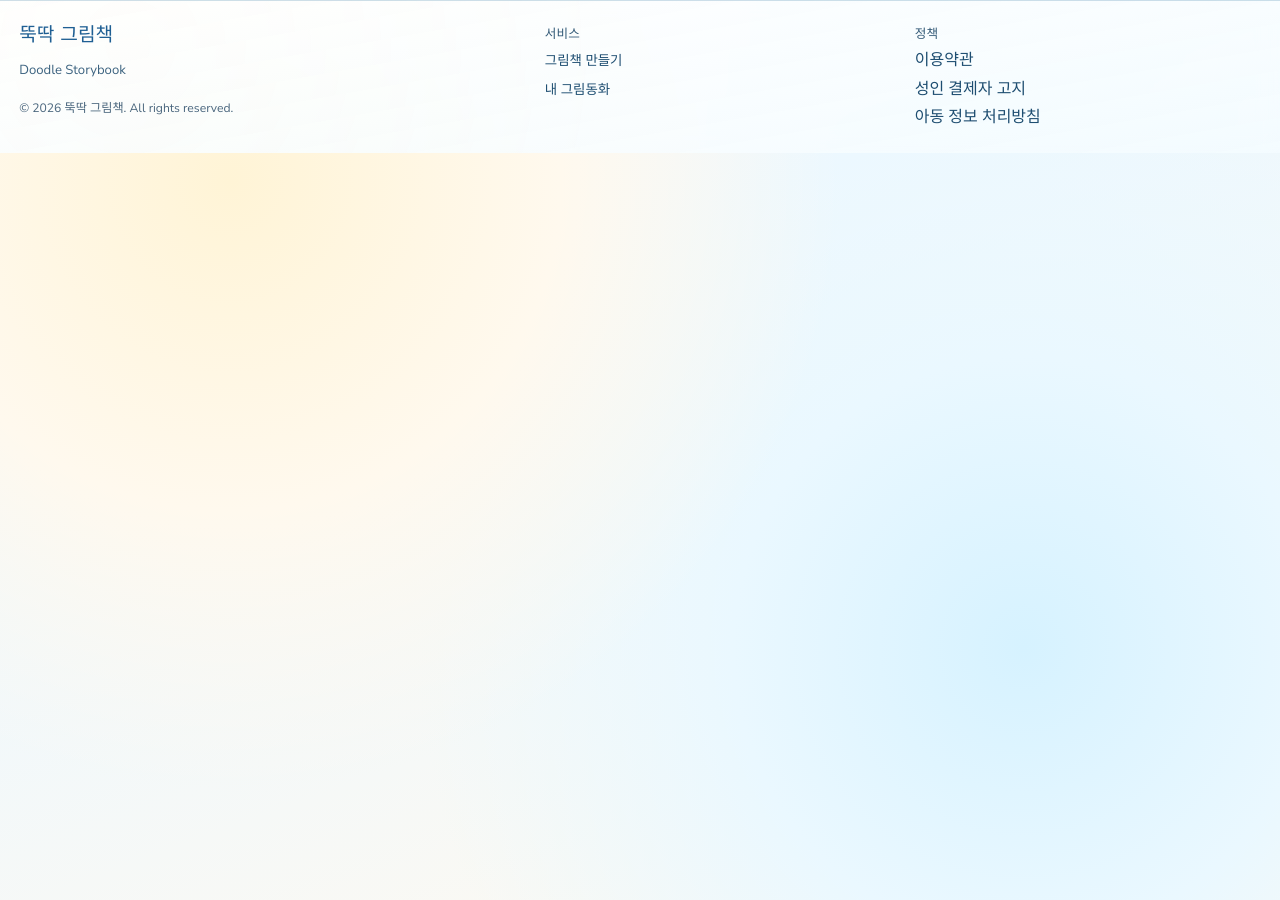
Test: AppFooter › 현재 언어 문서가 없으면 영어 문서로 fallback 한다
The width and height of the screenshot is (1280, 900).
What coordinates should you click on to do the following:
click the button "이용약관"
I would click on:
 (944, 61)
Its box is [915,49,974,73].
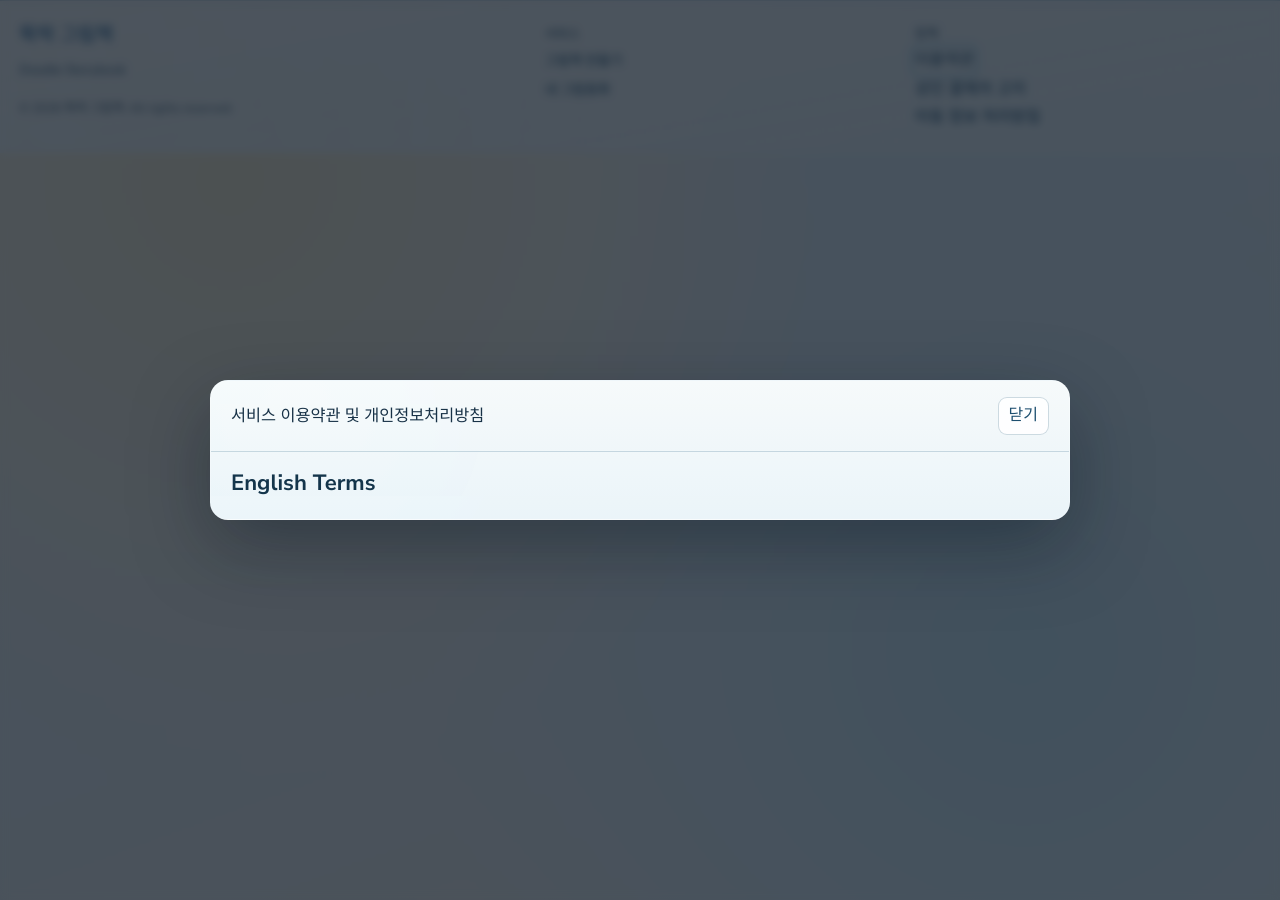
Now the heading "English Terms" is shown, box [231,468,376,498]
